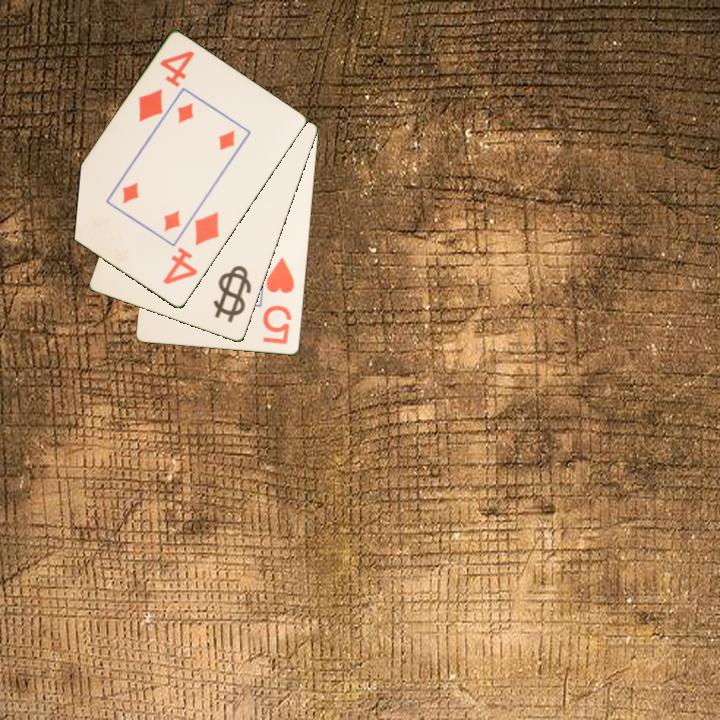4d: (159, 209, 222, 288), (135, 47, 198, 126)
5h: (259, 254, 297, 347)
JK: (218, 266, 248, 315)
